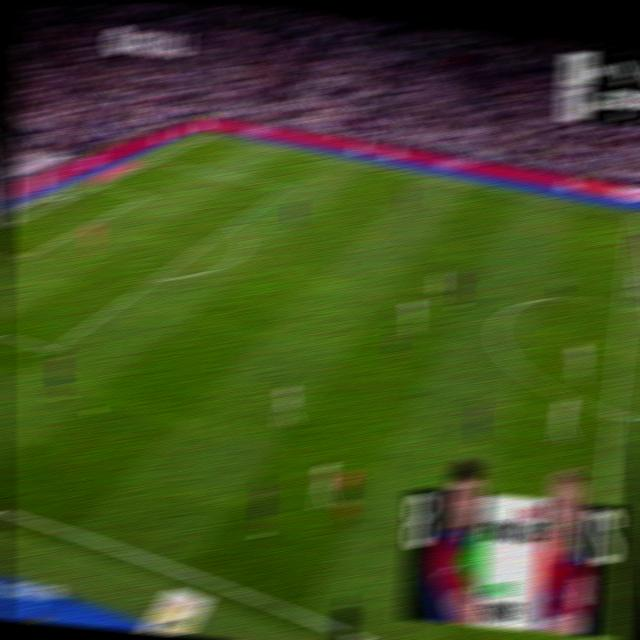bigarea_bottom_inner: (42, 337, 62, 359)
bigarea_top_inner: (277, 181, 292, 194)
bigarea_top_outter: (150, 154, 165, 164)
bottom_arc_area_intersection: (146, 271, 164, 285)
corner: (203, 129, 220, 139)
halfcircle_bottom: (603, 399, 624, 425)
halfcircle_top: (615, 292, 636, 315)
midline_top_intersection: (626, 209, 640, 220)
smallarea_bottom_inner: (15, 249, 32, 265)
smallarea_top_inner: (136, 191, 150, 200)
top_arc_area_intersection: (227, 216, 242, 229)
